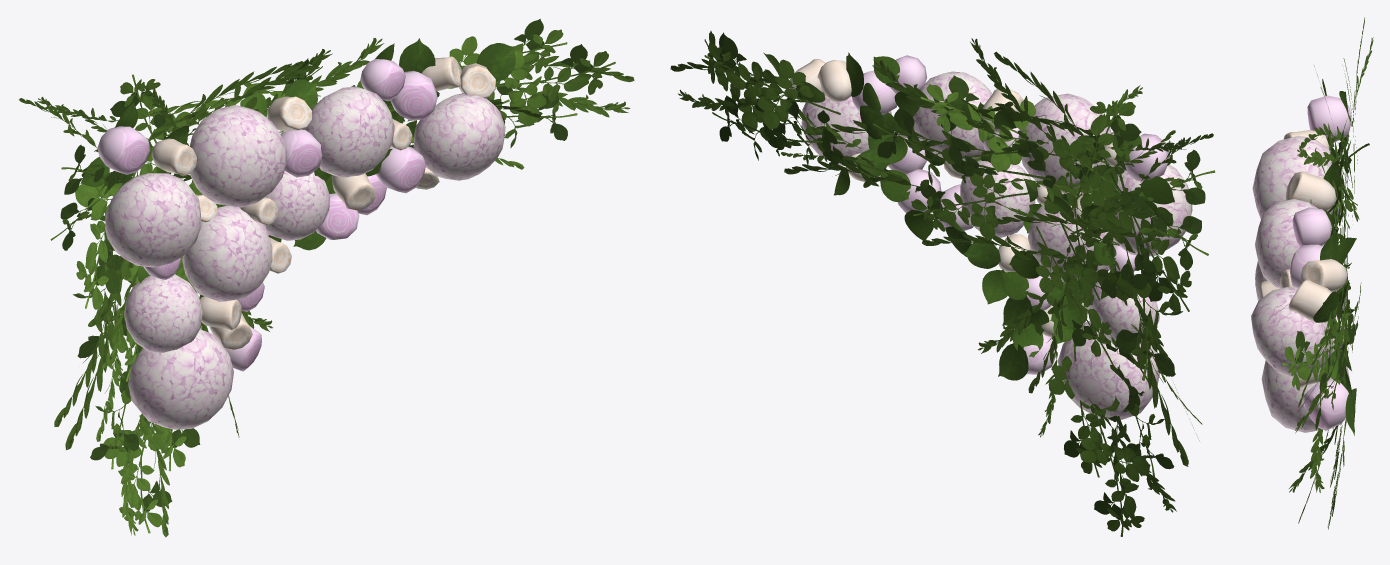
The model's file is DecorFlowerArch01_1.FBX.
The picture shows the model from 3 angles, left to right: view 1: azimuth 30°, elevation 25°; view 2: azimuth 150°, elevation 25°; view 3: azimuth 270°, elevation 25°; orthographic projection. The views are drawn at different scales.
Parts seen in each view (by area): view 1: DecorFlowerArch01_1; view 2: DecorFlowerArch01_1; view 3: DecorFlowerArch01_1.
Part boxes in pixels (x1,y1,x2,y2): DecorFlowerArch01_1: [19, 18, 634, 537]; DecorFlowerArch01_1: [670, 31, 1215, 536]; DecorFlowerArch01_1: [1251, 17, 1373, 529].
Size of what is drawn, in the model's own units: 1.21 by 0.9583 by 0.2173.
